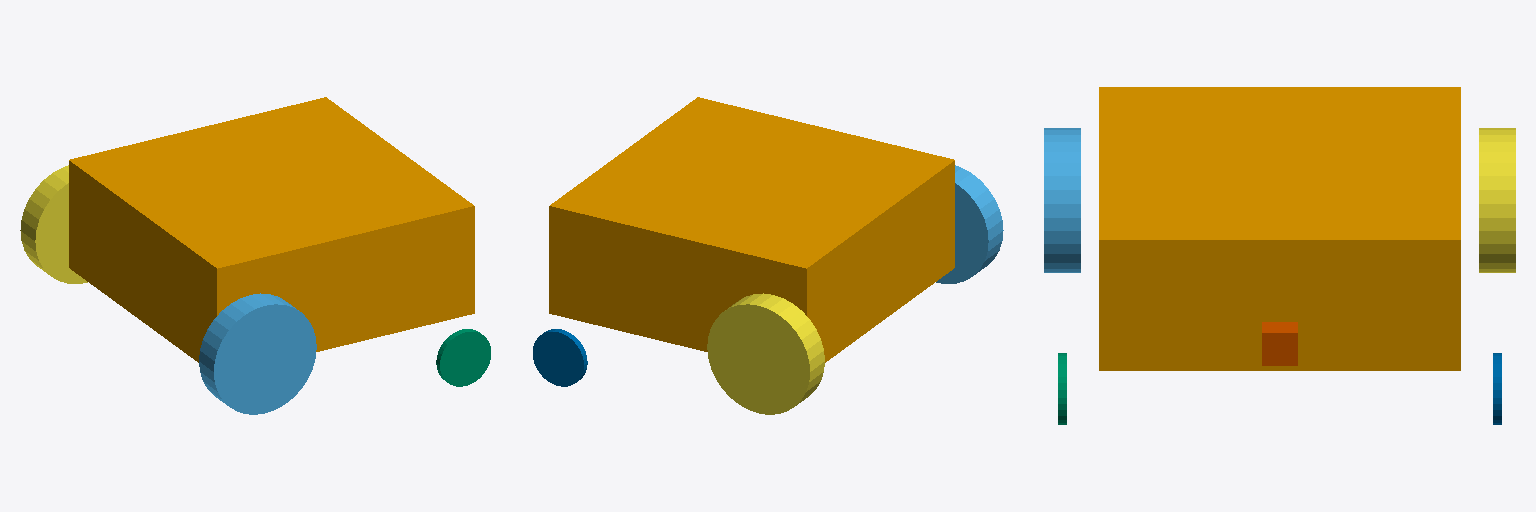
robot.urdf — carre_sim:
<?xml version="1.0" ?>
<!-- =================================================================================== -->
<!-- |    This document was autogenerated by xacro from carre_sim.xacro                | -->
<!-- |    EDITING THIS FILE BY HAND IS NOT RECOMMENDED                                 | -->
<!-- =================================================================================== -->
<robot name="carre_sim">
  <!-- Make Chassis of Bot -->
  <link name="chassis">
    <pose>0 0 0.1 0 0 0</pose>
    <inertial>
      <mass value="15"/>
      <origin rpy=" 0 0 0" xyz="0.0 0 0"/>
      <inertia ixx="0.147116667" ixy="0" ixz="0" iyy="0.334951167" iyz="0" izz="0.3978345"/>
    </inertial>
    <collision name="collision">
      <origin rpy=" 0 0 0" xyz="0 0 0.05"/>
      <geometry>
        <box size="0.5 0.5 0.2"/>
      </geometry>
    </collision>
    <visual name="chassis_visual">
      <origin rpy=" 0 0 0" xyz="0 0 0.05"/>
      <geometry>
        <box size="0.5 0.5 0.2"/>
      </geometry>
    </visual>
  </link>
  <!-- Right Wheel Back -->
  <link name="right_wheel_back">
    <inertial>
      <mass value="5"/>
      <origin rpy="0 1.5707 1.5707" xyz="0 0 0"/>
      <inertia ixx="0.1" ixy="0.0" ixz="0.0" iyy="0.1" iyz="0.0" izz="0.1"/>
    </inertial>
    <visual>
      <origin rpy="0 1.5707 1.5707" xyz="0 0 0"/>
      <geometry>
        <cylinder length="0.05" radius="0.1"/>
      </geometry>
    </visual>
    <collision>
      <origin rpy="0 1.5707 1.5707" xyz="0 0 0"/>
      <geometry>
        <cylinder length="0.05" radius="0.1"/>
      </geometry>
    </collision>
  </link>
  <!-- Right Wheel Front-->
  <link name="right_wheel_front">
    <inertial>
      <mass value="5"/>
      <origin rpy="0 1.5707 1.5707" xyz="0 0 0"/>
      <inertia ixx="0.1" ixy="0.0" ixz="0.0" iyy="0.1" iyz="0.0" izz="0.1"/>
    </inertial>
    <visual>
      <origin rpy="0 1.5707 1.5707" xyz="0 0 0"/>
      <geometry>
        <cylinder length="0.0125" radius="0.05"/>
      </geometry>
    </visual>
    <collision>
      <origin rpy="0 1.5707 1.5707" xyz="0 0 0"/>
      <geometry>
        <cylinder length="0.0125" radius="0.05"/>
      </geometry>
    </collision>
  </link>
  <!-- Left wheel Back-->
  <link name="left_wheel_back">
    <inertial>
      <mass value="5"/>
      <origin rpy="0 1.5707 1.5707" xyz="0 0 0"/>
      <inertia ixx="0.1" ixy="0.0" ixz="0.0" iyy="0.1" iyz="0.0" izz="0.1"/>
    </inertial>
    <visual>
      <origin rpy="0 1.5707 1.5707" xyz="0 0 0"/>
      <geometry>
        <cylinder length="0.05" radius="0.1"/>
      </geometry>
    </visual>
    <collision>
      <origin rpy="0 1.5707 1.5707" xyz="0 0 0"/>
      <geometry>
        <cylinder length="0.05" radius="0.1"/>
      </geometry>
    </collision>
  </link>
  <!-- Left wheel Front-->
  <link name="left_wheel_front">
    <inertial>
      <mass value="5"/>
      <origin rpy="0 1.5707 1.5707" xyz="0 0 0"/>
      <inertia ixx="0.1" ixy="0.0" ixz="0.0" iyy="0.1" iyz="0.0" izz="0.1"/>
    </inertial>
    <visual>
      <origin rpy="0 1.5707 1.5707" xyz="0 0 0"/>
      <geometry>
        <cylinder length="0.0125" radius="0.05"/>
      </geometry>
    </visual>
    <collision>
      <origin rpy="0 1.5707 1.5707" xyz="0 0 0"/>
      <geometry>
        <cylinder length="0.0125" radius="0.05"/>
      </geometry>
    </collision>
  </link>
  <!-- Camera -->
  <link name="camera">
    <inertial>
      <mass value="0.1"/>
      <origin rpy="0 0 0" xyz="0 0 0"/>
      <inertia ixx="1e-6" ixy="0.0" ixz="0.0" iyy="1e-6" iyz="0.0" izz="1e-6"/>
    </inertial>
    <visual>
      <origin rpy="0 0 0" xyz="0 0 0"/>
      <geometry>
        <box size="0.05 0.05 0.05"/>
      </geometry>
    </visual>
    <collision>
      <origin rpy="0 0 0" xyz="0 0 0"/>
      <geometry>
        <box size="0.05 0.05 0.05"/>
      </geometry>
    </collision>
  </link>
  <!-- Hokuyo Lidar -->
  <!-- <link name="hokuyo">
		<inertial>
			<mass value="${hokoyu_mass}"/>
			<origin xyz="0 0 0" rpy="0 0 0"/>

			<inertia
		        ixx="1e-6" ixy="0.0" ixz="0.0"
		        iyy="1e-6" iyz="0.0"
		        izz="1e-6"
		      />
		</inertial>

		<visual>
			<origin xyz="0 0 0" rpy="0 0 0"/>
			<geometry>
				<mesh filename="package://carre_sim/meshes/hokuyo.dae"/>
			</geometry>
		</visual>

		<collision>
			<origin xyz="0 0 0" rpy="0 0 0"/>
			<geometry>
				<box size="0.1 0.1 0.1"/>
			</geometry>
		</collision>
	</link> -->
  <!-- Project center to the ground -->
  <link name="robot_footprint"/>
  <!-- Define Joints -->
  <!-- Right Wheel Joint Back-->
  <joint name="right_wheel_hinge_back" type="continuous">
    <origin rpy="0 0 0" xyz="-0.2 -0.30 0"/>
    <parent link="chassis"/>
    <child link="right_wheel_back"/>
    <axis rpy="0 0 0" xyz="0 1 0"/>
    <limit effort="10000" velocity="1000"/>
    <dynamics damping="1.0" friction="1.0"/>
  </joint>
  <!-- Right Wheel Joint Front-->
  <joint name="right_wheel_hinge_front" type="continuous">
    <origin rpy="0 0 0" xyz="0.2 -0.30 -0.1"/>
    <parent link="chassis"/>
    <child link="right_wheel_front"/>
    <axis rpy="0 0 0" xyz="0 1 0"/>
    <limit effort="10000" velocity="1000"/>
    <dynamics damping="1.0" friction="1.0"/>
  </joint>
  <!-- Left Wheel Joint Back-->
  <joint name="left_wheel_hinge_back" type="continuous">
    <origin rpy="0 0 0" xyz="-0.2 0.30 0"/>
    <parent link="chassis"/>
    <child link="left_wheel_back"/>
    <axis rpy="0 0 0" xyz="0 1 0"/>
    <limit effort="10000" velocity="1000"/>
    <dynamics damping="1.0" friction="1.0"/>
  </joint>
  <!-- Left Wheel Joint Front-->
  <joint name="left_wheel_hinge_front" type="continuous">
    <origin rpy="0 0 0" xyz="0.2 0.30 -0.1"/>
    <parent link="chassis"/>
    <child link="left_wheel_front"/>
    <axis rpy="0 0 0" xyz="0 1 0"/>
    <limit effort="10000" velocity="1000"/>
    <dynamics damping="1.0" friction="1.0"/>
  </joint>
  <!-- Camera Joint -->
  <joint name="camera_joint" type="fixed">
    <origin rpy="0 0 0" xyz="0.26 0 0"/>
    <parent link="chassis"/>
    <child link="camera"/>
    <axis xyz="0 1 0"/>
  </joint>
  <!-- Hokoyu Joint -->
  <!-- <joint name="hokuyo_joint" type="fixed">
	    <origin xyz="0.2 0 0.2" rpy="0 0 0" />
	    <parent link="chassis"/>
	    <child link="hokuyo" />  
	    <axis xyz="0 1 0"/> 
	</joint> -->
  <joint name="robot_footprint_joint" type="fixed">
    <origin rpy="0 0 0" xyz="0 0 0"/>
    <parent link="robot_footprint"/>
    <child link="chassis"/>
  </joint>
  <!-- Color of bot -->
  <gazebo reference="left_wheel_front">
    <material>Gazebo/Green</material>
    <kp>1000000.0</kp>
    <!-- kp and kd for rubber -->
    <kd>100.0</kd>
    <mu1>1.0</mu1>
    <mu2>1.0</mu2>
    <maxVel>1.0</maxVel>
    <minDepth>0.00</minDepth>
  </gazebo>
  <gazebo reference="left_wheel_back">
    <material>Gazebo/Green</material>
    <kp>1000000.0</kp>
    <!-- kp and kd for rubber -->
    <kd>100.0</kd>
    <mu1>1.0</mu1>
    <mu2>1.0</mu2>
    <maxVel>1.0</maxVel>
    <minDepth>0.00</minDepth>
  </gazebo>
  <gazebo reference="right_wheel_front">
    <material>Gazebo/Green</material>
    <kp>1000000.0</kp>
    <!-- kp and kd for rubber -->
    <kd>100.0</kd>
    <mu1>1.0</mu1>
    <mu2>1.0</mu2>
    <maxVel>1.0</maxVel>
    <minDepth>0.00</minDepth>
  </gazebo>
  <gazebo reference="right_wheel_back">
    <material>Gazebo/Green</material>
    <kp>1000000.0</kp>
    <!-- kp and kd for rubber -->
    <kd>100.0</kd>
    <mu1>1.0</mu1>
    <mu2>1.0</mu2>
    <maxVel>1.0</maxVel>
    <minDepth>0.00</minDepth>
  </gazebo>
  <!--<gazebo reference="right_wheel">
		<material>Gazebo/Green</material>
	</gazebo>-->
  <gazebo reference="camera">
    <material>Gazebo/Red</material>
  </gazebo>
  <gazebo reference="chassis">
    <material>Gazebo/Blue</material>
  </gazebo>
  <gazebo>
    <plugin filename="libgazebo_ros_skid_steer_drive.so" name="skid_steer_drive_controller">
      <updateRate>10.0</updateRate>
      <robotNamespace>/carre_sim</robotNamespace>
      <leftFrontJoint>left_wheel_hinge_front</leftFrontJoint>
      <rightFrontJoint>right_wheel_hinge_front</rightFrontJoint>
      <leftRearJoint>left_wheel_hinge_back</leftRearJoint>
      <rightRearJoint>right_wheel_hinge_back</rightRearJoint>
      <wheelSeparation>0.4</wheelSeparation>
      <wheelDiameter>0.2</wheelDiameter>
      <robotBaseFrame>robot_footprint</robotBaseFrame>
      <torque>10</torque>
      <topicName>cmd_vel</topicName>
      <odometryTopic>odom</odometryTopic>
      <odometryFrame>odom</odometryFrame>
      <commandTopic>cmd_vel</commandTopic>
      <topic_name_twist>cmd_vel</topic_name_twist>
      <topic_name_odometry>odom</topic_name_odometry>
      <topic_name_joint>joint</topic_name_joint>
      <broadcastTF>true</broadcastTF>
      <covariance_x>0.0001</covariance_x>
      <covariance_y>0.0001</covariance_y>
      <covariance_yaw>0.01</covariance_yaw>
    </plugin>
  </gazebo>
  <!-- camera -->
  <gazebo reference="camera">
    <sensor name="camera1" type="camera">
      <update_rate>30.0</update_rate>
      <camera name="head">
        <horizontal_fov>2.0944</horizontal_fov>
        <image>
          <width>1920</width>
          <height>1080</height>
          <format>R8G8B8</format>
        </image>
        <clip>
          <near>0.02</near>
          <far>300</far>
        </clip>
      </camera>
      <plugin filename="libgazebo_ros_camera.so" name="camera_controller">
        <robotNamespace>/carre_sim</robotNamespace>
        <alwaysOn>true</alwaysOn>
        <updateRate>0.0</updateRate>
        <cameraName>camera</cameraName>
        <imageTopicName>rgb/image_raw</imageTopicName>
        <cameraInfoTopicName>rgb/camera_info</cameraInfoTopicName>
        <frameName>camera</frameName>
        <hackBaseline>0.07</hackBaseline>
        <distortionK1>0.0</distortionK1>
        <distortionK2>0.0</distortionK2>
        <distortionK3>0.0</distortionK3>
        <distortionT1>0.0</distortionT1>
        <distortionT2>0.0</distortionT2>
      </plugin>
    </sensor>
  </gazebo>
  <!-- hokuyo -->
  <!-- <gazebo reference="hokuyo">
    <sensor type="ray" name="head_hokuyo_sensor">
      <pose>0 0 0 0 0 0</pose>
      <visualize>false</visualize>
      <update_rate>40</update_rate>
      <ray>
        <scan>
          <horizontal>
            <samples>720</samples>
            <resolution>1</resolution>
            <min_angle>-1.570796</min_angle>
            <max_angle>1.570796</max_angle>
          </horizontal>
        </scan>
        <range>
          <min>0.10</min>
          <max>30.0</max>
          <resolution>0.01</resolution>
        </range>
        <noise>
          <type>gaussian</type>
          <mean>0.0</mean>
          <stddev>0.01</stddev>
        </noise>
      </ray>
      <plugin name="gazebo_ros_head_hokuyo_controller" filename="libgazebo_ros_laser.so">
        <topicName>/scan</topicName>
        <frameName>hokuyo</frameName>
        <robotNamespace>/carre_sim</robotNamespace>
      </plugin>
    </sensor>
  </gazebo> -->
</robot>

--- What the picture shows (computed from the rendered views, not written in the file) ---
Views: 3 orthographic renders of the robot side by side, from view 1: azimuth 30°, elevation 25°; view 2: azimuth 150°, elevation 25°; view 3: azimuth 270°, elevation 25°.
Model carre_sim with 7 links and 6 joints (4 continuous, 2 fixed), rooted at robot_footprint, posed every joint at zero.
Visible links, largest first — view 1: chassis, right_wheel_back, left_wheel_back, right_wheel_front; view 2: chassis, left_wheel_back, right_wheel_back, left_wheel_front; view 3: chassis, right_wheel_back, left_wheel_back, camera, right_wheel_front, left_wheel_front.
Link boxes in pixels (<box>): chassis: <box>69,97,474,362</box>; right_wheel_back: <box>199,293,316,414</box>; left_wheel_back: <box>20,165,87,283</box>; right_wheel_front: <box>436,329,490,386</box>; chassis: <box>549,97,954,362</box>; left_wheel_back: <box>707,293,824,414</box>; right_wheel_back: <box>936,165,1003,283</box>; left_wheel_front: <box>533,329,587,386</box>; chassis: <box>1099,87,1460,370</box>; right_wheel_back: <box>1044,128,1080,272</box>; left_wheel_back: <box>1479,128,1515,272</box>; camera: <box>1262,322,1297,365</box>; right_wheel_front: <box>1058,353,1066,424</box>; left_wheel_front: <box>1493,353,1501,424</box>.
Bounding box of the posed robot: 0.585 × 0.65 × 0.3 m (x, y, z).
Geometry: primitives only (box / cylinder / sphere), no mesh files.